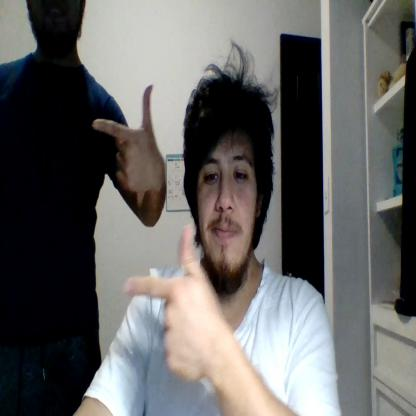G: (123, 223, 218, 380), (92, 84, 158, 194)
